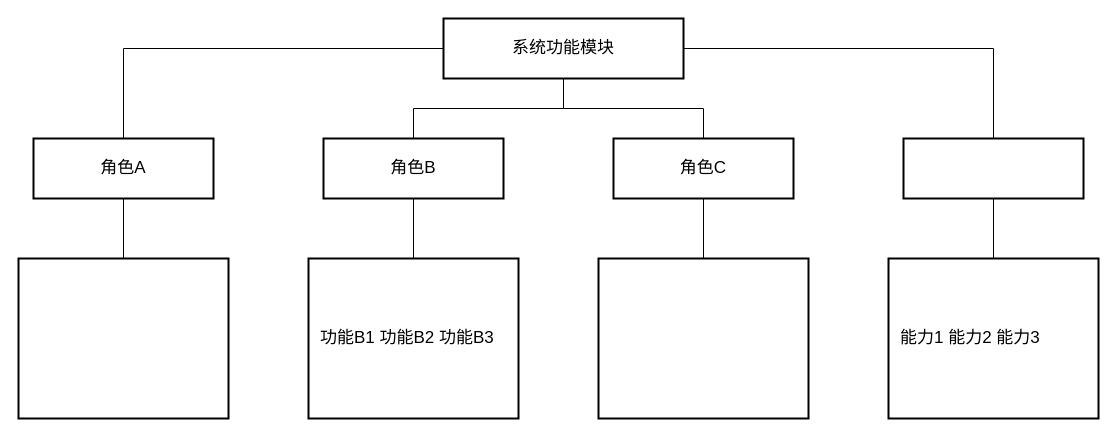
This 1116x436 diagram has some shape labels left out. The box of each missing label's shape, as (x1, y1, x2, y2) in pixels:
公共能力: (902, 137, 1084, 199)
功能A1 功能A2 功能A3: (17, 257, 229, 419)
功能C1 功能C2 功能C3: (597, 257, 809, 419)
